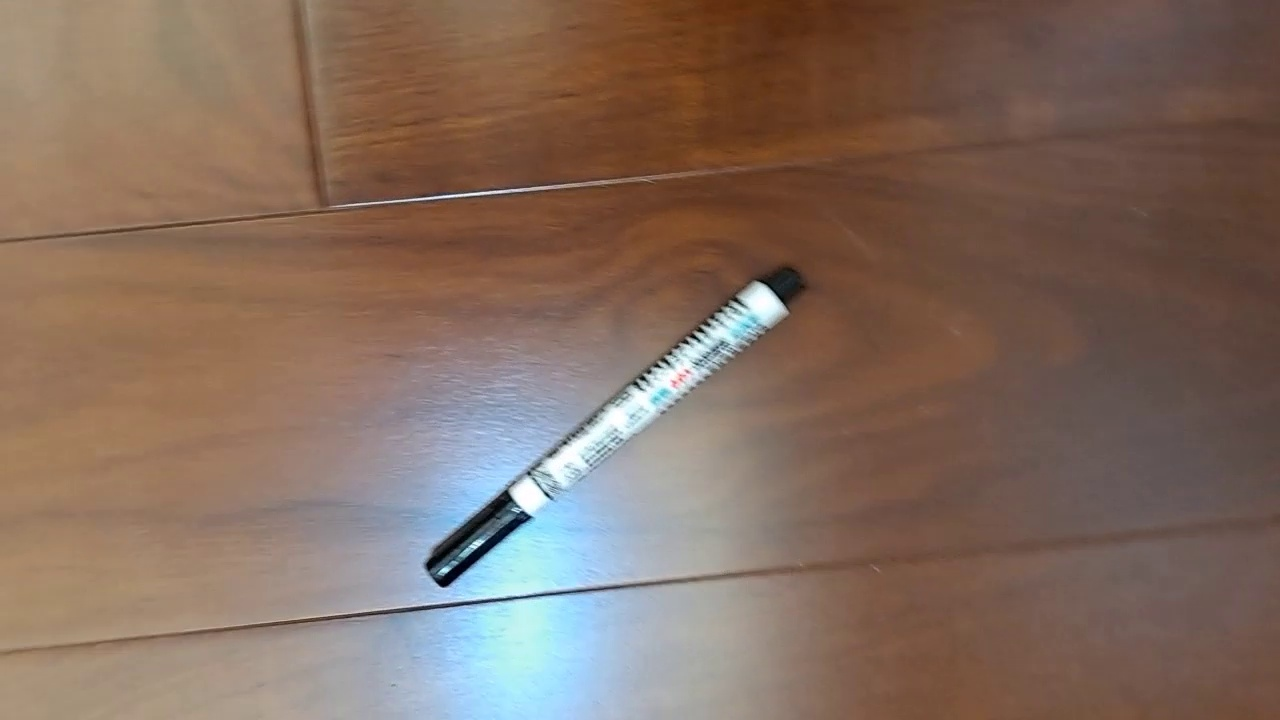pen: (423, 260, 811, 589)
